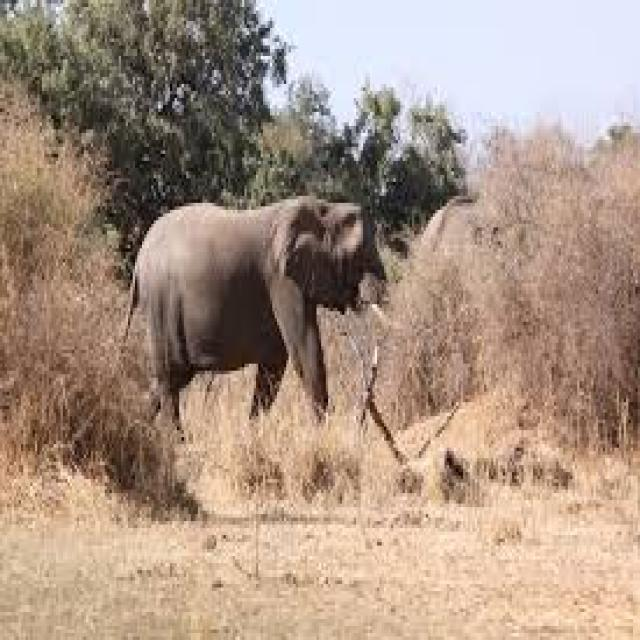Elephant: (121, 192, 389, 441)
